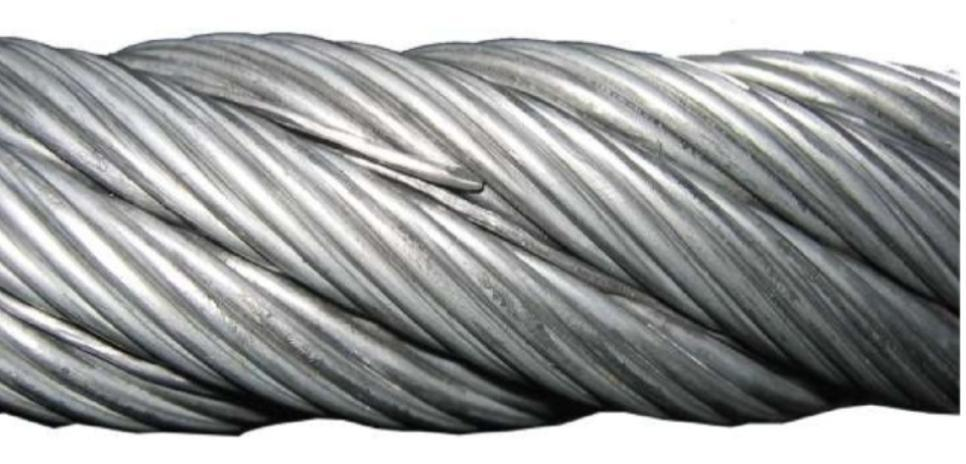break: (405, 147, 516, 228)
